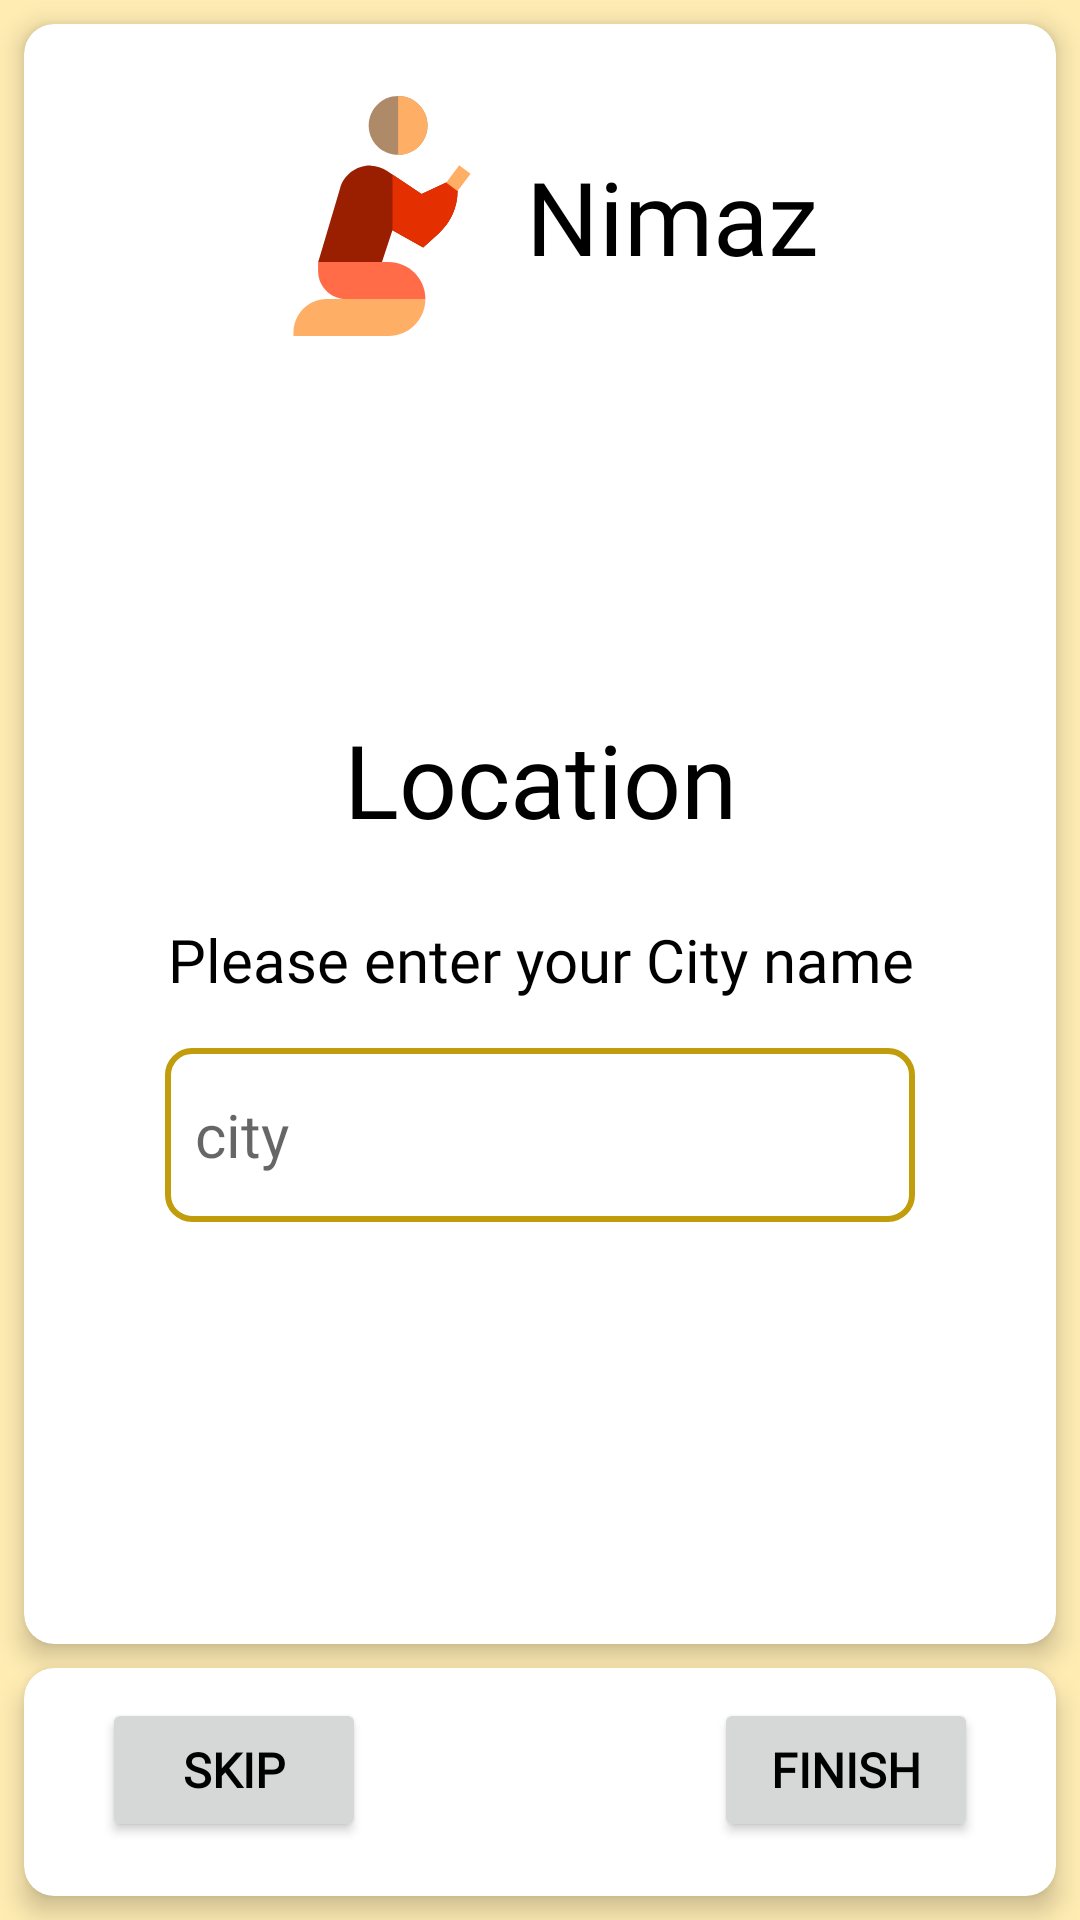

Where to tap for icons on this 1080×1920 app screen, as (x=x, y=y):
prayer: (x=382, y=216)
